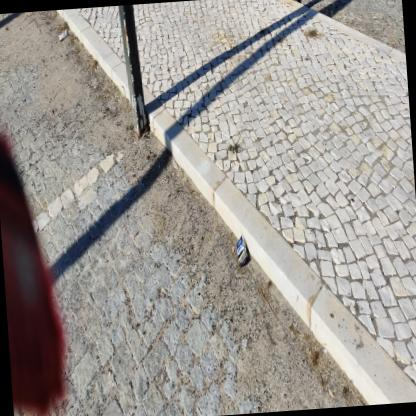Paper: (237, 235, 248, 268), (59, 30, 67, 41), (328, 387, 334, 397), (232, 247, 234, 251), (91, 70, 92, 75)
